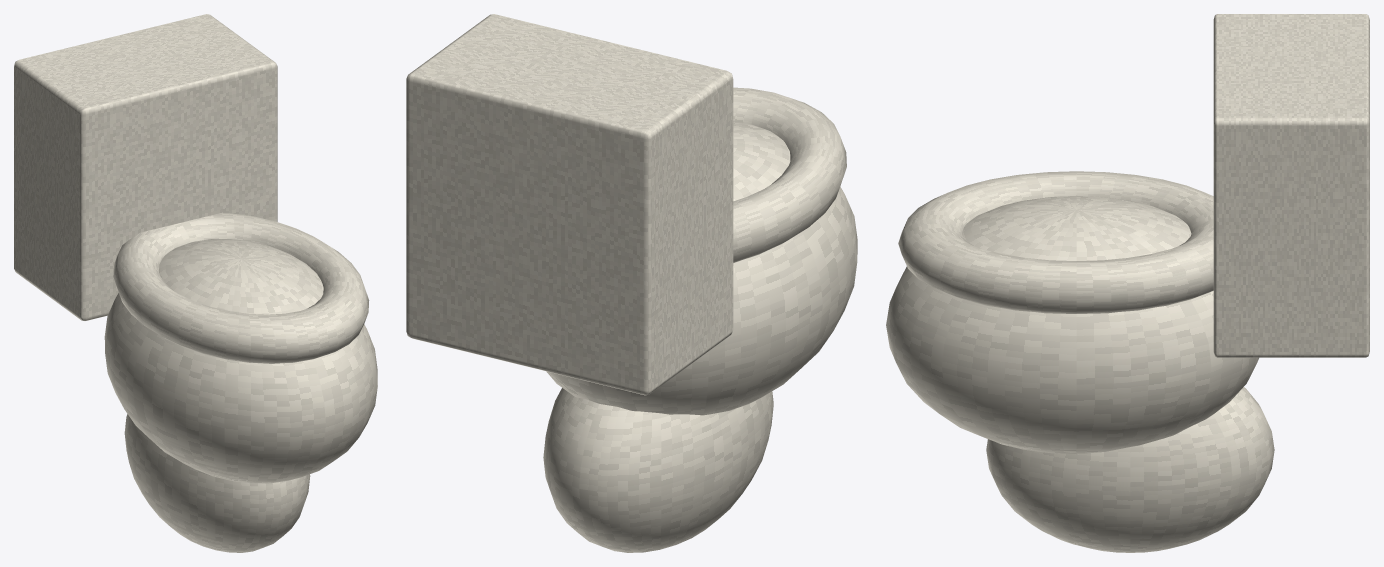
Rendered from toilet.glb.
3 views of the same model, side by side, from view 1: azimuth 30°, elevation 25°; view 2: azimuth 150°, elevation 25°; view 3: azimuth 270°, elevation 25° (orthographic). The views are drawn at different scales.
Parts seen in each view (by area): view 1: tank, bowl, seat, pedestal; view 2: tank, pedestal, bowl, seat; view 3: bowl, tank, pedestal, seat.
Boxes of the visible parts, <box> form: tank: <box>14,14,277,320</box>; bowl: <box>104,239,377,483</box>; seat: <box>113,213,369,363</box>; pedestal: <box>124,414,310,552</box>; tank: <box>406,14,733,395</box>; pedestal: <box>543,388,773,552</box>; bowl: <box>546,121,857,415</box>; seat: <box>733,87,846,262</box>; bowl: <box>886,195,1258,454</box>; tank: <box>1213,14,1369,357</box>; pedestal: <box>986,387,1274,552</box>; seat: <box>898,171,1213,313</box>.
Bounding box in the file's own units: 0.41 × 0.77 × 0.7029.
1 material, 1 textured.
